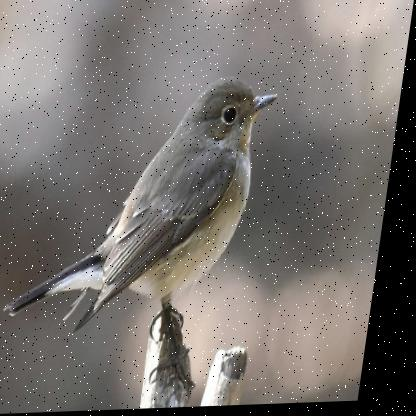Burung: (3, 78, 282, 402)
